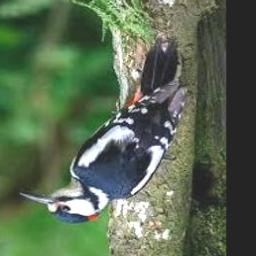Woodpecker: (20, 36, 188, 224)
